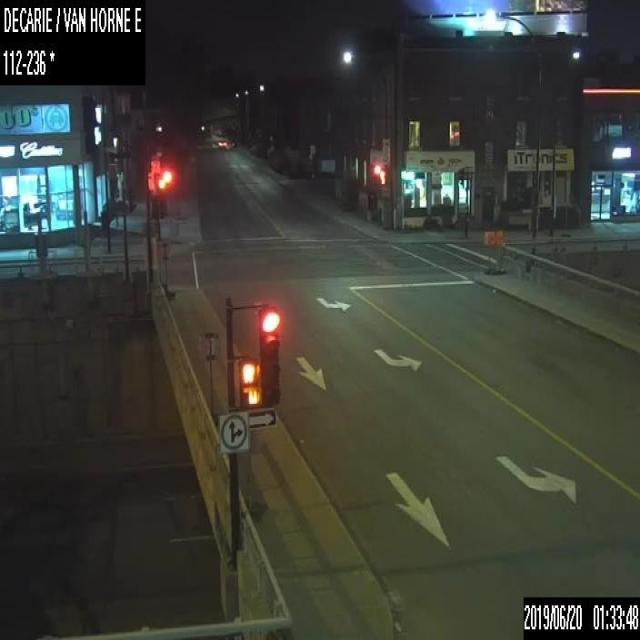construction: (198, 330, 224, 424), (241, 427, 267, 519), (157, 238, 174, 301), (494, 229, 505, 273), (484, 230, 494, 274)
vehicle: (217, 138, 226, 149)
